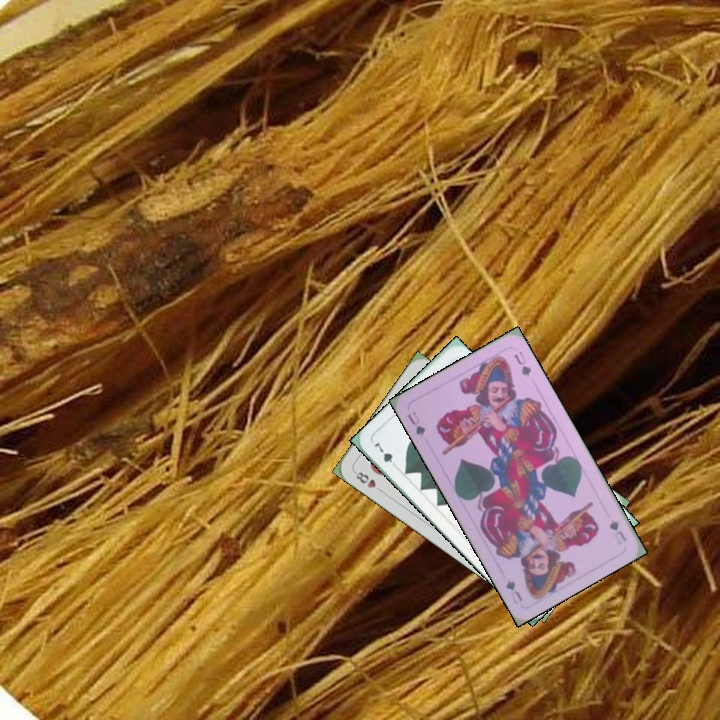G7: (370, 439, 401, 471)
GU: (403, 407, 428, 439), (605, 515, 629, 547)
H8: (350, 467, 386, 495)
